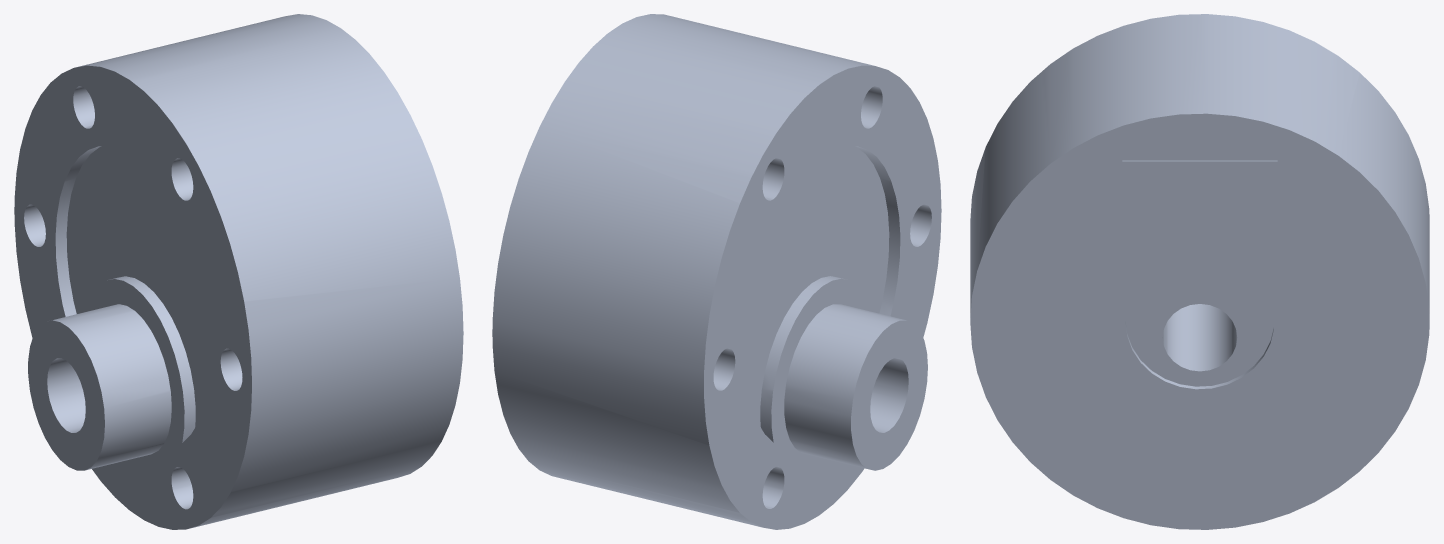
File: Motor_JGB37_545__Reduction_box_body_1_4.dae
3 views of the same model, side by side, from view 1: azimuth 30°, elevation 25°; view 2: azimuth 150°, elevation 25°; view 3: azimuth 270°, elevation 25° (orthographic). The views are drawn at different scales.
Visible parts, largest first — view 1: node0; view 2: node0; view 3: node0.
Part boxes in pixels (x1,y1,x2,y2): node0: (14,14,463,529); node0: (492,14,941,529); node0: (970,14,1429,529).
Size of the model in its own units: 0.025 by 0.037 by 0.037.
